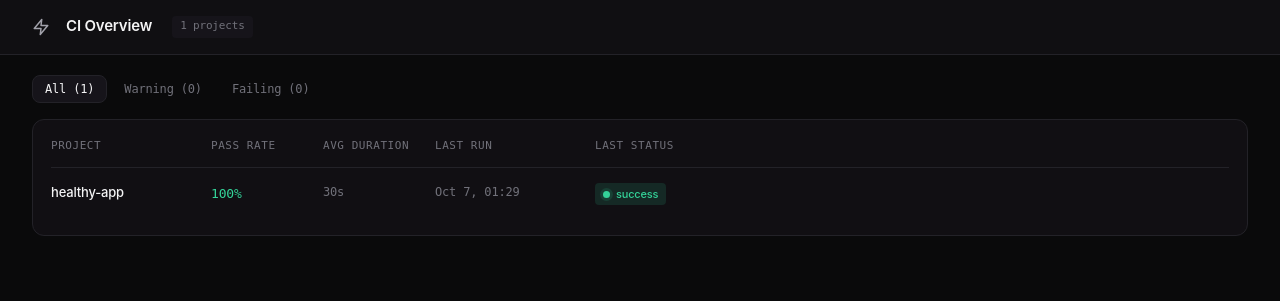
Test: CiPage › shows an empty-filter message when no project matches the selected tab
Check: the link "healthy-app" is shown, box left=51, top=184, right=124, bottom=200
Step 1. Click the button "Failing (0)" → [271, 89], box left=219, top=75, right=322, bottom=103
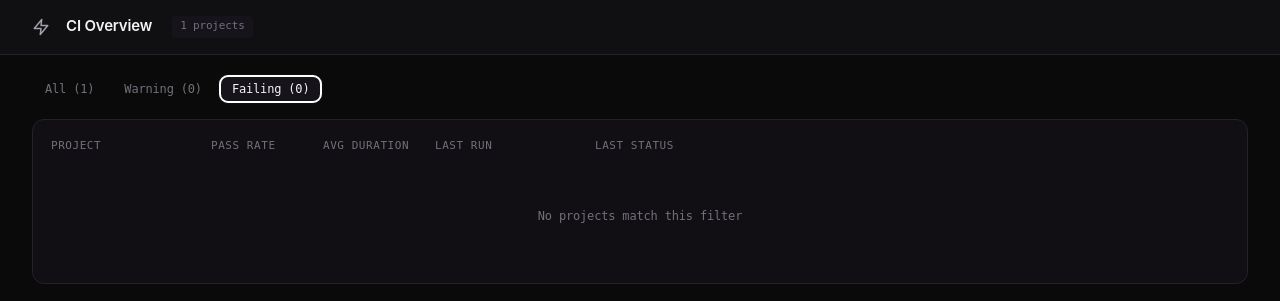
Check: the text "No projects match this filter" is shown, box left=538, top=208, right=742, bottom=222
Check: the link "healthy-app" is gone
